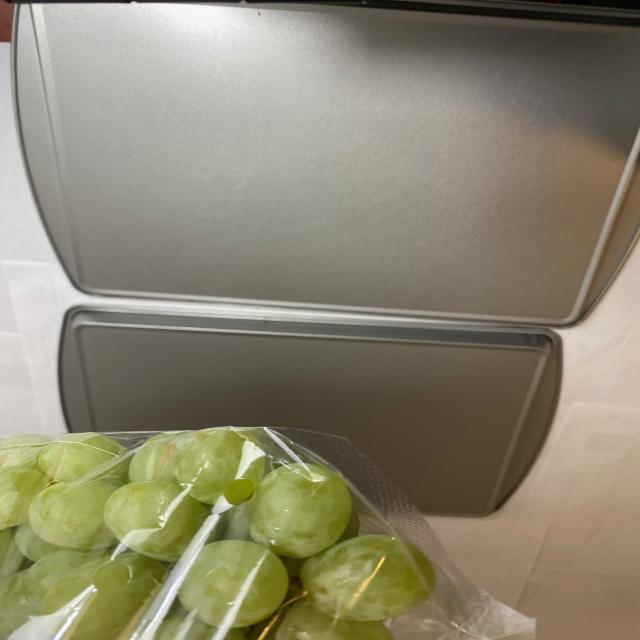grapes: (2, 418, 447, 635)
